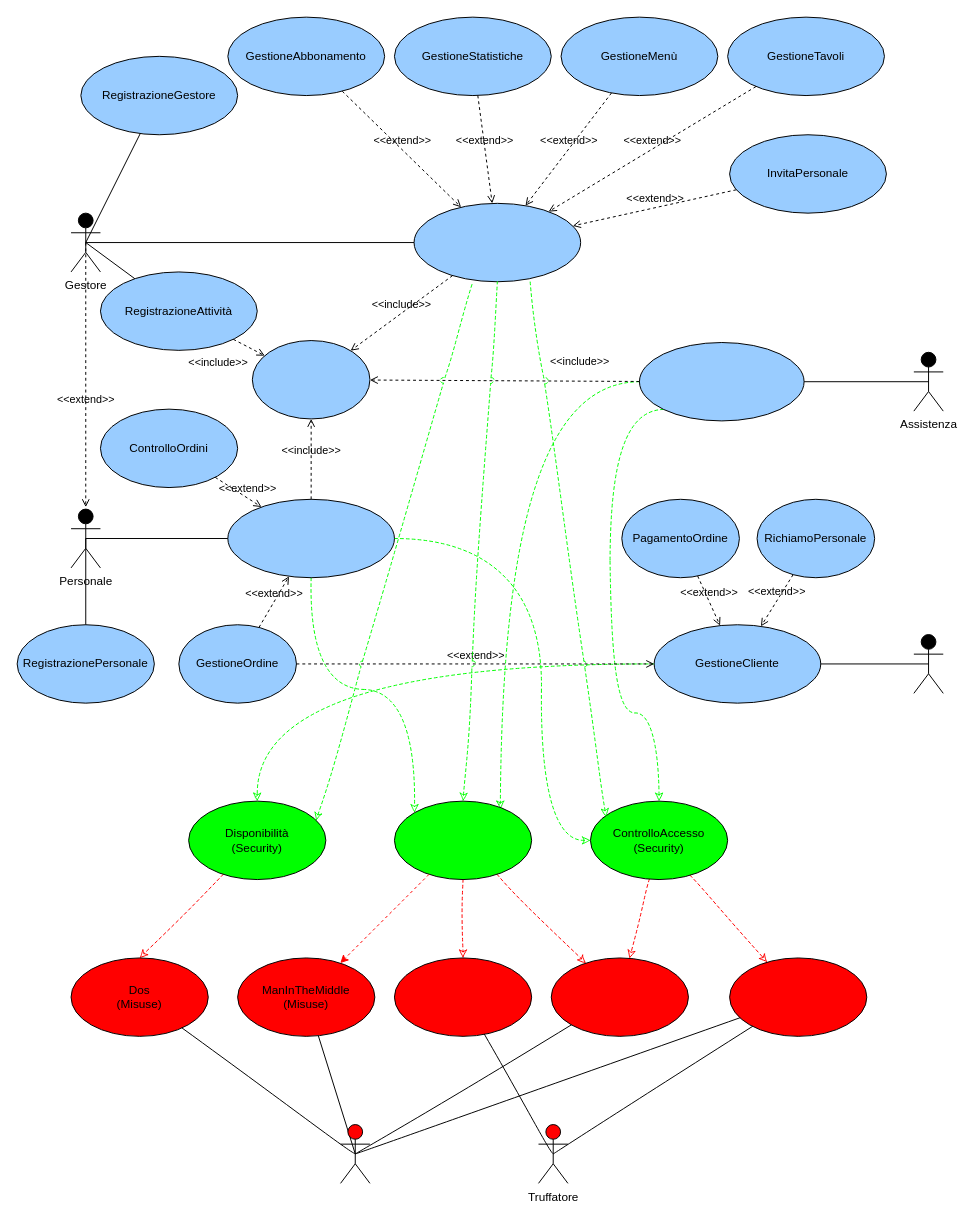
This 974x1221 diagram has some shape labels left out. The shapes that lost their labels are listed below. From the top down, each one's centre as x and y in pixels, then its label:
At [497,242]: "GestioneGestore".
At [310,379]: "Login".
At [721,381]: "GestioneAssistenza".
At [310,538]: "GestionePersonale".
At [928,663]: "Cliente".
At [462,840]: "GarantireProtezione (Security)".
At [462,996]: "Frode (Misuse)".
At [619,996]: "Sniffing (Misuse)".
At [798,996]: "FurtoCredenziali (Misuse)".
At [355,1153]: "Hacker".
